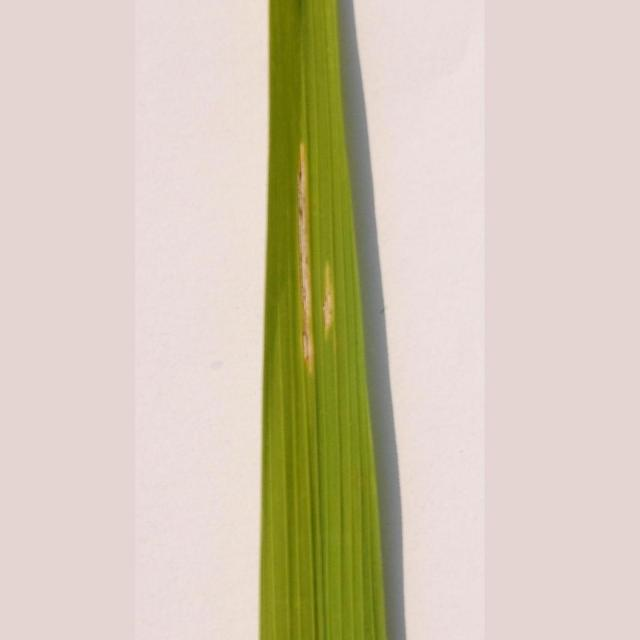leaf blight: (277, 134, 348, 375)
